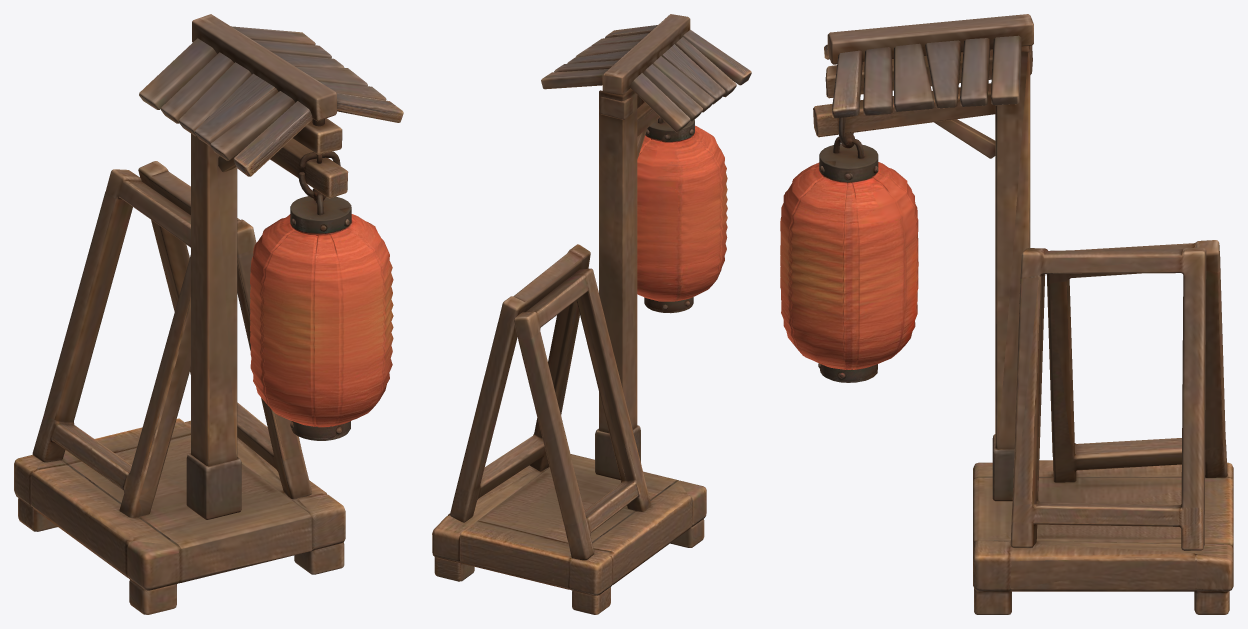
Rendered from lantern_sign.glb.
The picture shows the model from 3 angles, left to right: view 1: azimuth 30°, elevation 25°; view 2: azimuth 150°, elevation 25°; view 3: azimuth 270°, elevation 25°; orthographic projection. The views are drawn at different scales.
Visible parts, largest first — view 1: tripo_node_ffc40419-bf78-4848-b556-661c2b759ec4; view 2: tripo_node_ffc40419-bf78-4848-b556-661c2b759ec4; view 3: tripo_node_ffc40419-bf78-4848-b556-661c2b759ec4.
Boxes of the visible parts, x1=… form: tripo_node_ffc40419-bf78-4848-b556-661c2b759ec4: x1=14, y1=14, x2=403, y2=614; tripo_node_ffc40419-bf78-4848-b556-661c2b759ec4: x1=432, y1=14, x2=751, y2=614; tripo_node_ffc40419-bf78-4848-b556-661c2b759ec4: x1=780, y1=14, x2=1233, y2=614.
Size of the model in its own units: 0.3794 by 0.9995 by 0.7554.
Materials: 1 (1 with a texture image).
